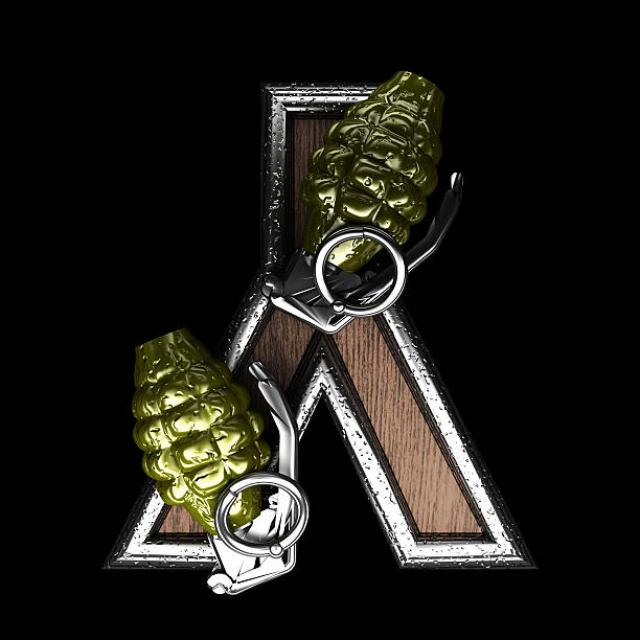grenade: (259, 72, 475, 339), (121, 323, 311, 604)
